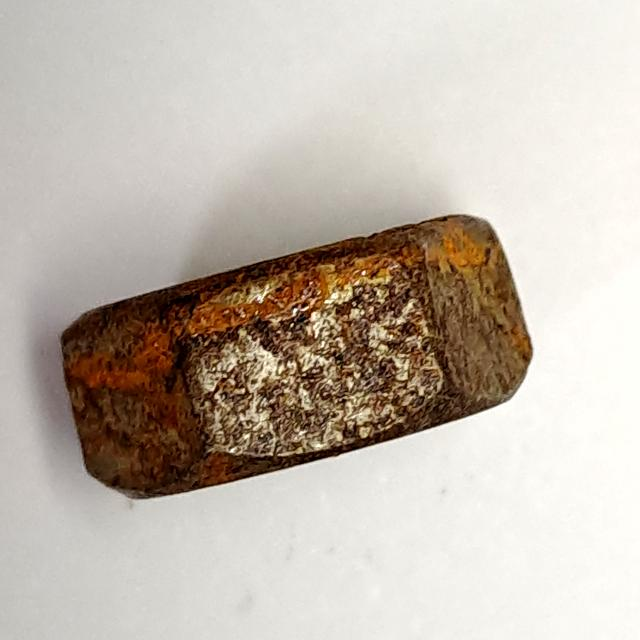Side_Rust: (49, 198, 542, 519)
